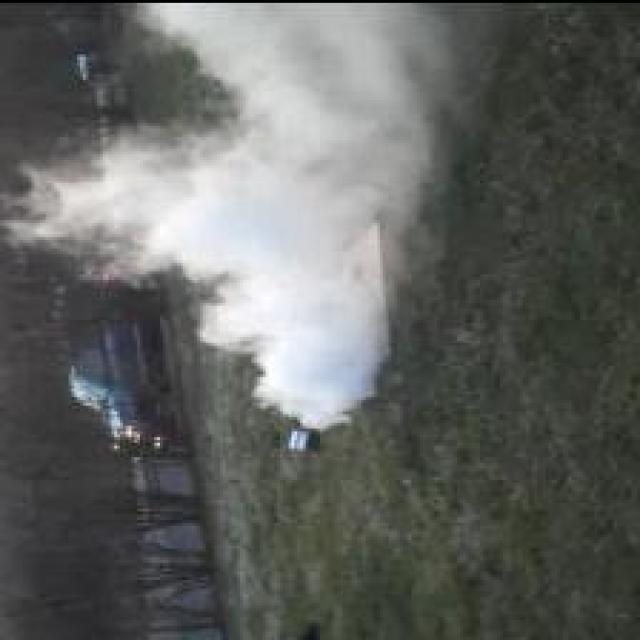Smoke: (1, 3, 467, 431)
